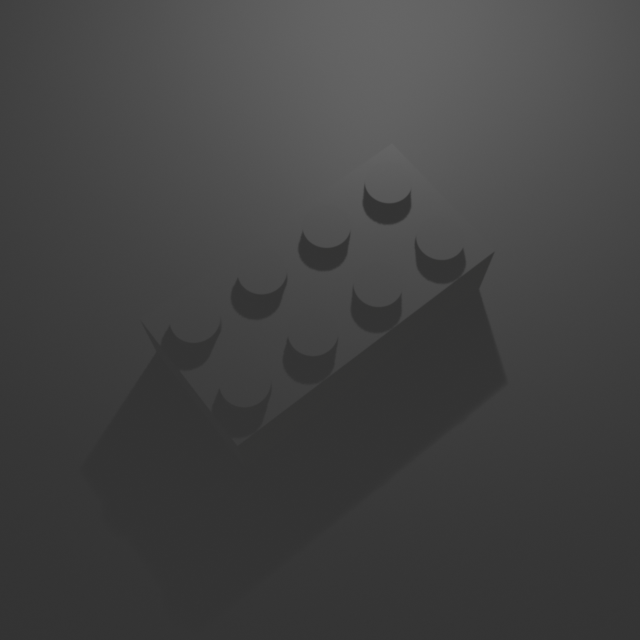lego_2x4: (136, 135, 498, 468)
